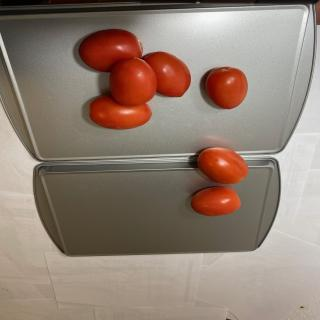Tomato: (78, 28, 143, 72), (109, 56, 157, 106), (89, 94, 152, 130), (142, 52, 191, 98), (197, 147, 249, 184), (205, 66, 248, 110), (191, 186, 241, 216)
